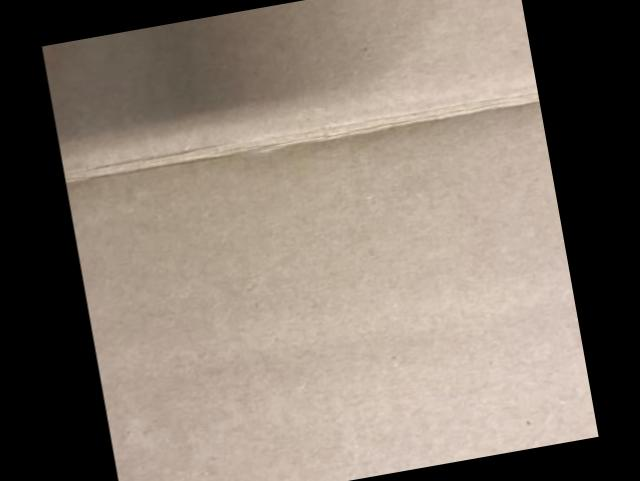cardboard paper: (41, 0, 599, 481)
